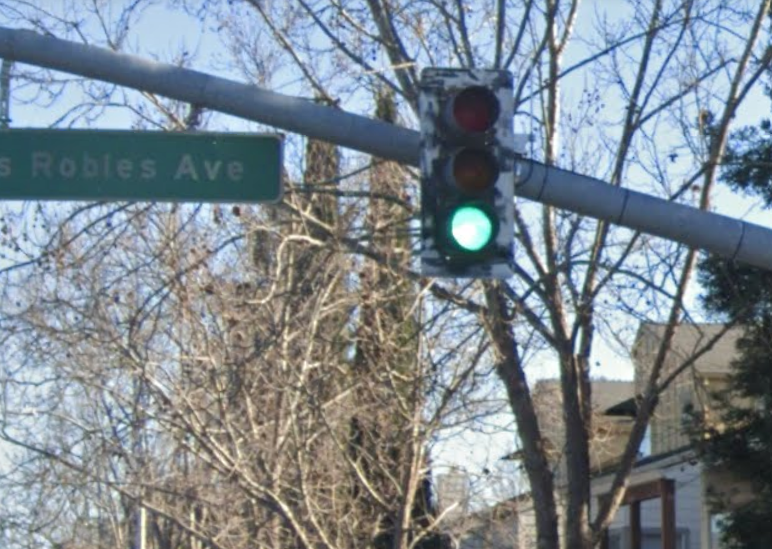green_light: (426, 70, 512, 278)
